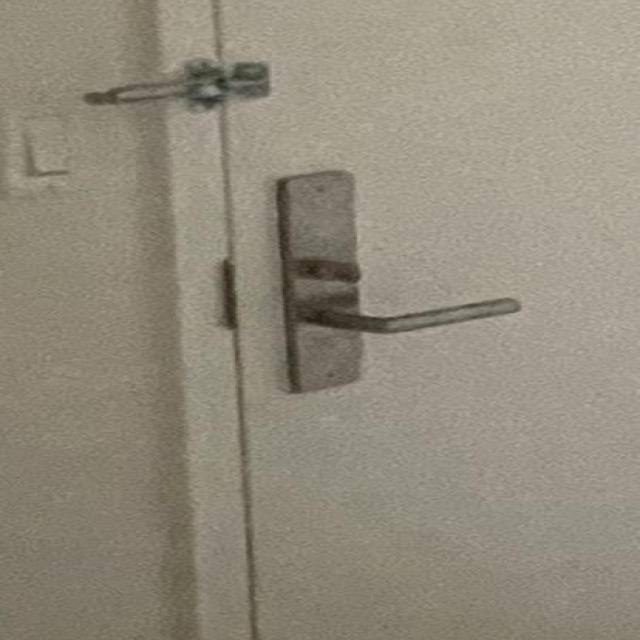door_handle: (297, 289, 535, 344)
